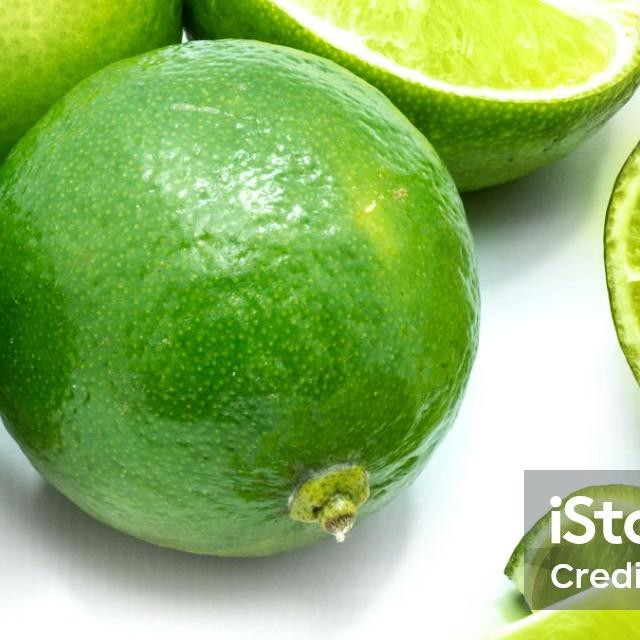lime: (0, 38, 485, 565)
